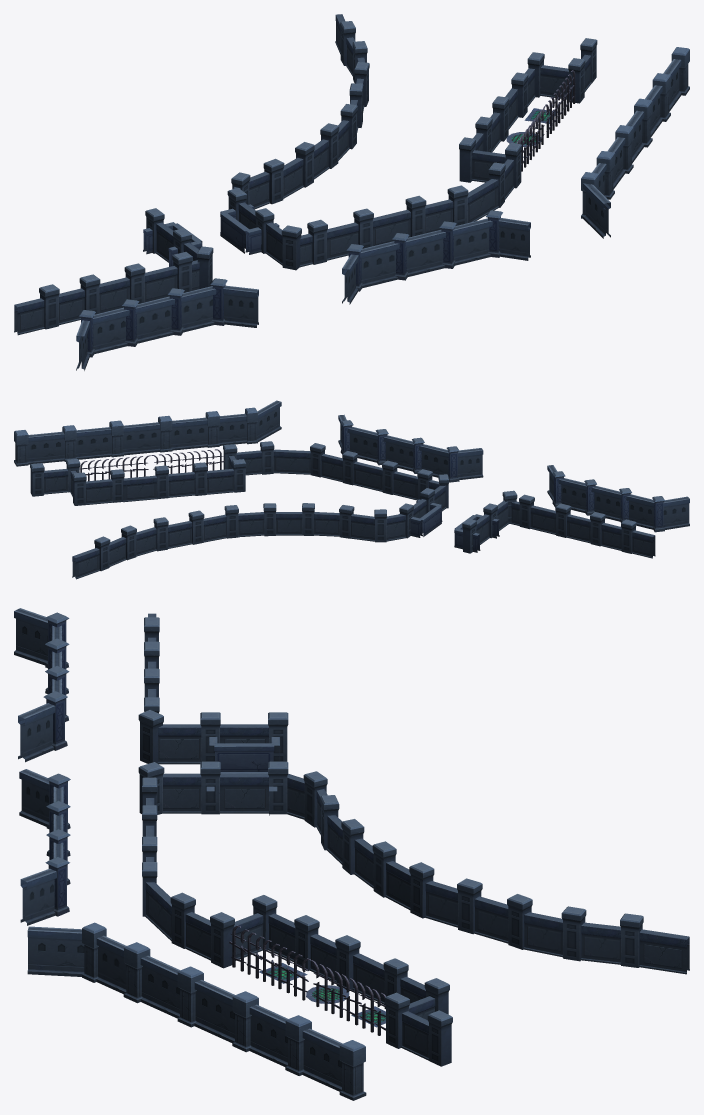
Rendered from chengqiang_group28.fbx.
3 views of the same model, one above another, from view 1: azimuth 30°, elevation 25°; view 2: azimuth 150°, elevation 25°; view 3: azimuth 270°, elevation 25° (orthographic). The views are drawn at different scales.
Parts seen in each view (by area): view 1: chengqiang_group28; view 2: chengqiang_group28; view 3: chengqiang_group28.
Boxes of the visible parts, left/top/right/bottom form: chengqiang_group28: left=14, top=14, right=689, bottom=370; chengqiang_group28: left=14, top=400, right=689, bottom=579; chengqiang_group28: left=14, top=608, right=689, bottom=1100.
Bounding box in the file's own units: 13280 × 701 × 8365.
Materials: 1 (1 with a texture image).
